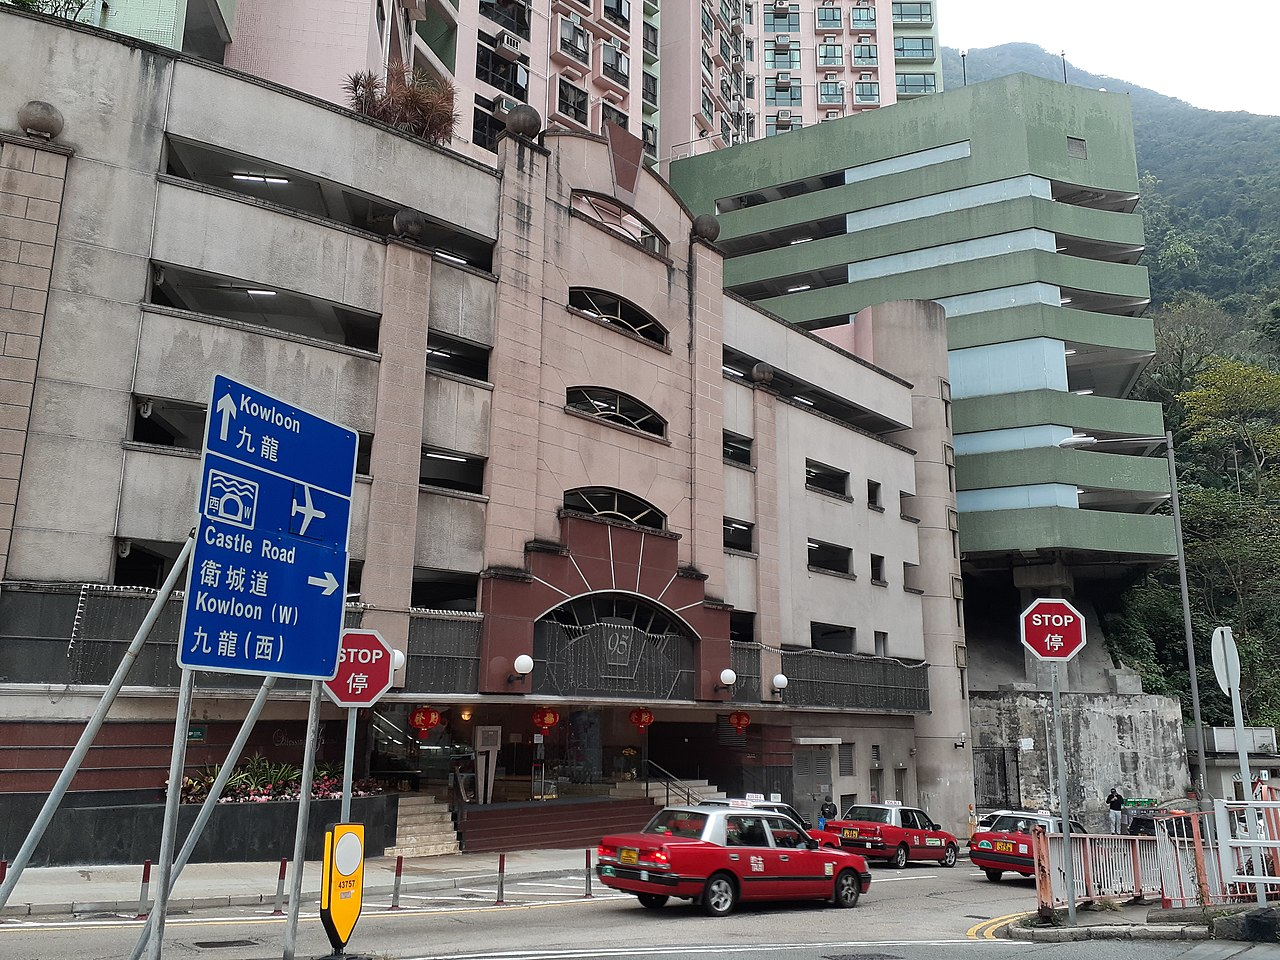Stop: (322, 626, 396, 710), (1019, 597, 1089, 665)
